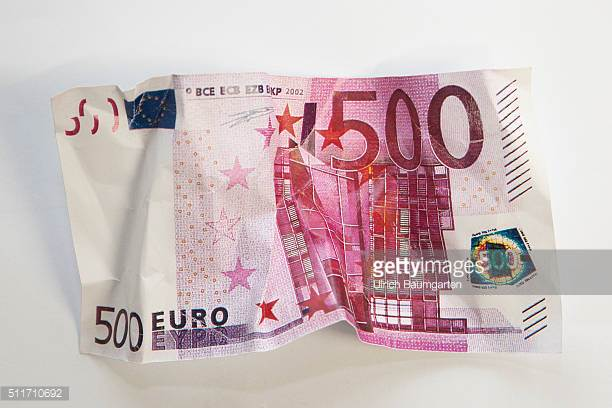billete: (50, 63, 569, 362)
